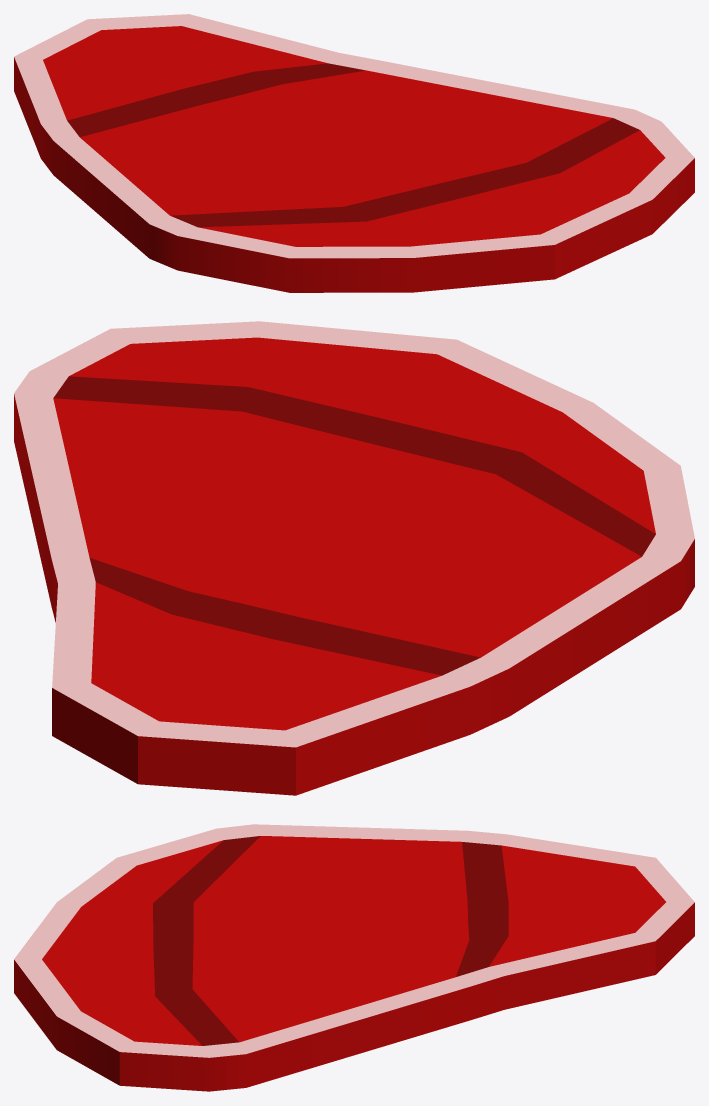
The model's file is Meat.fbx.
3 views of the same model, one above another, from view 1: azimuth 30°, elevation 25°; view 2: azimuth 150°, elevation 25°; view 3: azimuth 270°, elevation 25° (orthographic). The views are drawn at different scales.
Parts seen in each view (by area): view 1: Meat; view 2: Meat; view 3: Meat.
Part boxes in pixels (box(x1,y1,x2,y2)): Meat: box(14, 14, 694, 292); Meat: box(14, 321, 694, 795); Meat: box(14, 824, 694, 1091).
Size of the model in its own units: 20.78 by 1.4 by 25.61.
